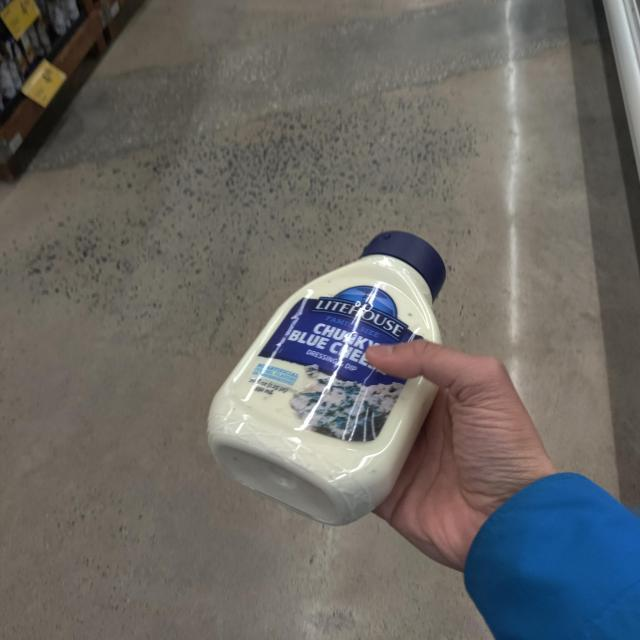Sauce: (199, 222, 463, 518)
